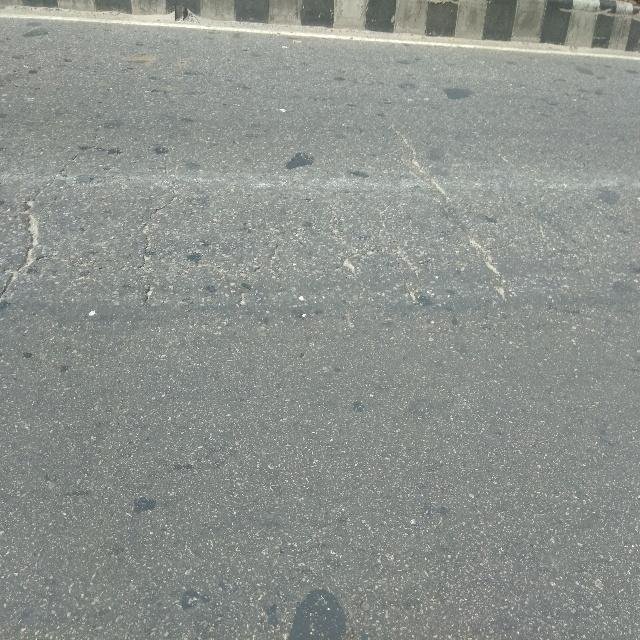Crack: (0, 106, 640, 413)
